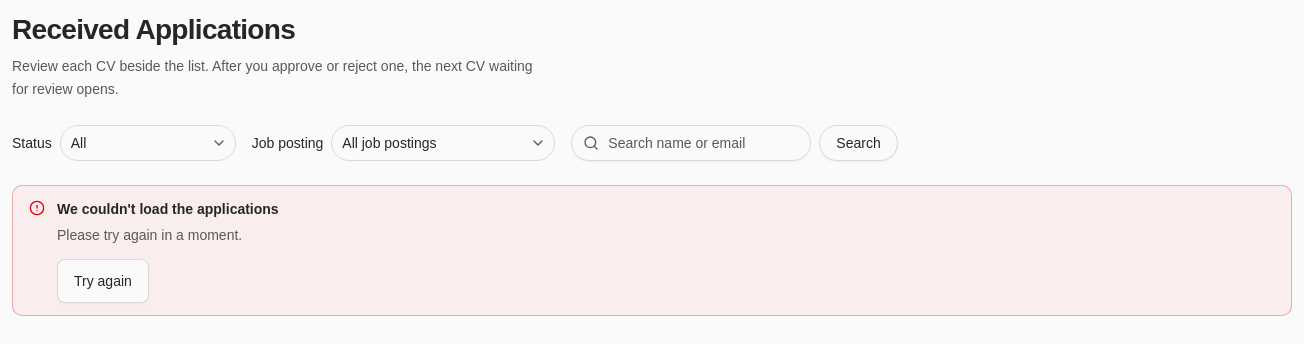
Test: ApplicationList › shows an error with a retry
The width and height of the screenshot is (1304, 344).
Expected: the heading "We couldn't load the applications" is shown, [57,198,279,220]
Step 1. Click the button "Try again" → click(103, 281), box [57,259,149,303]
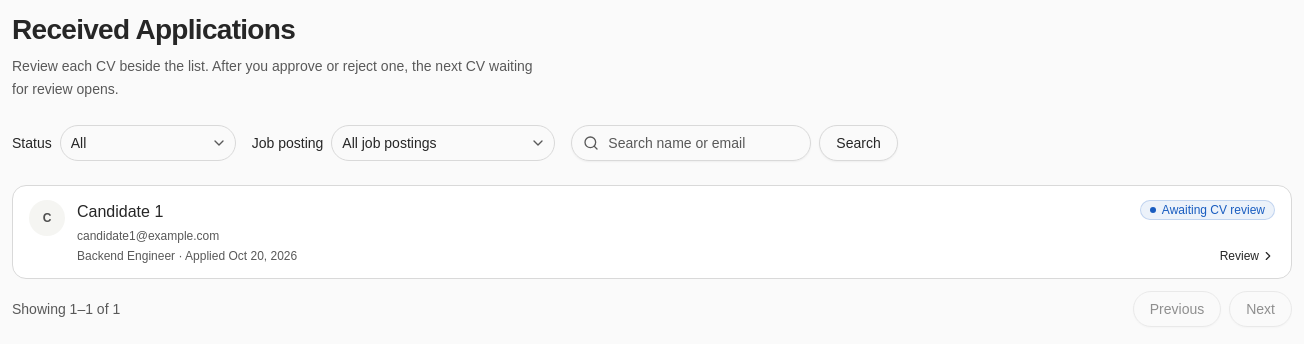
Result: the list named "Applications," is shown at [12,184,1292,278]
